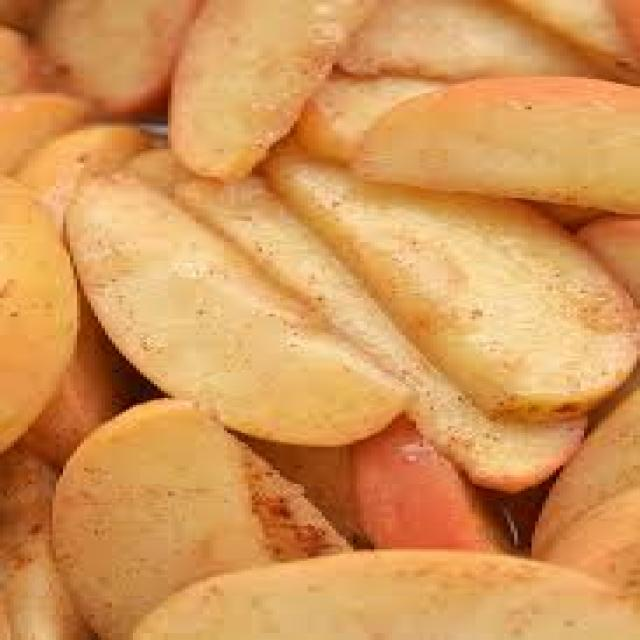Apple: (63, 172, 406, 445), (313, 184, 640, 406), (56, 405, 285, 612), (337, 86, 640, 205), (105, 579, 638, 640), (175, 2, 337, 180), (5, 176, 80, 454), (348, 427, 497, 549), (38, 2, 175, 119), (512, 0, 640, 79), (9, 119, 159, 157)
